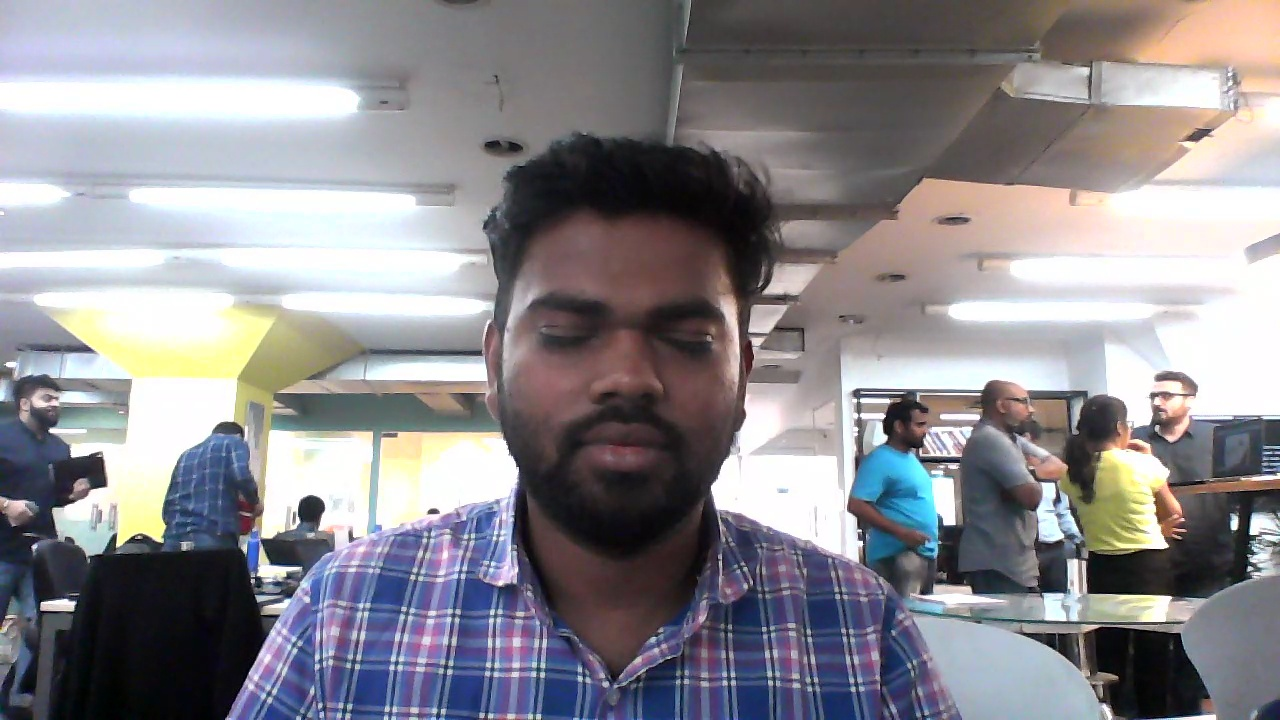closed: (483, 124, 765, 547)
